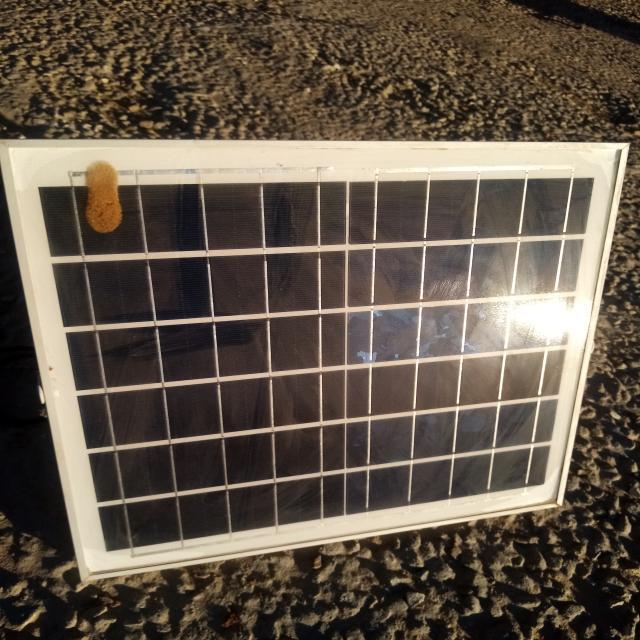faulty: (2, 143, 626, 578)
